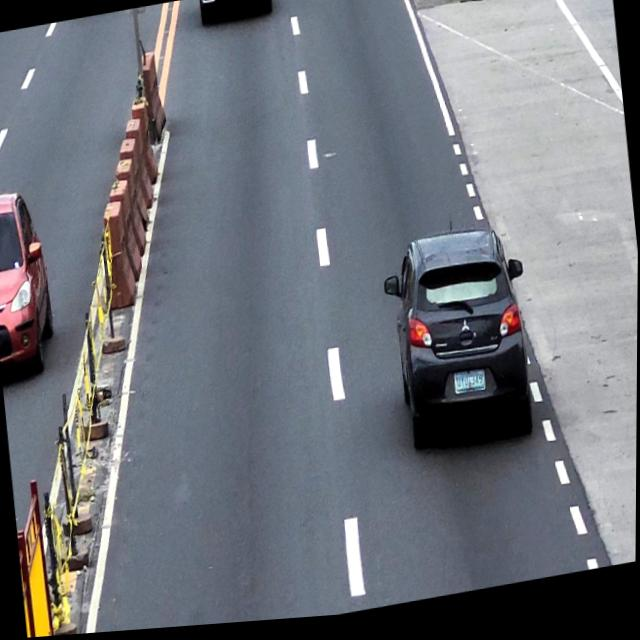Car: (378, 228, 541, 469)
License-Plate: (456, 377, 486, 400)
